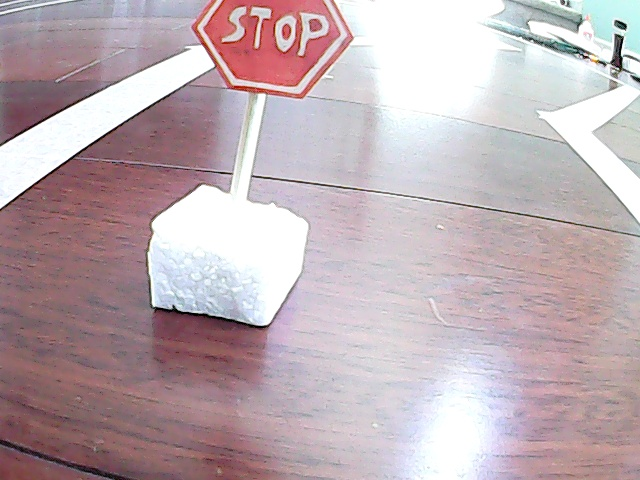stop: (161, 1, 349, 328)
